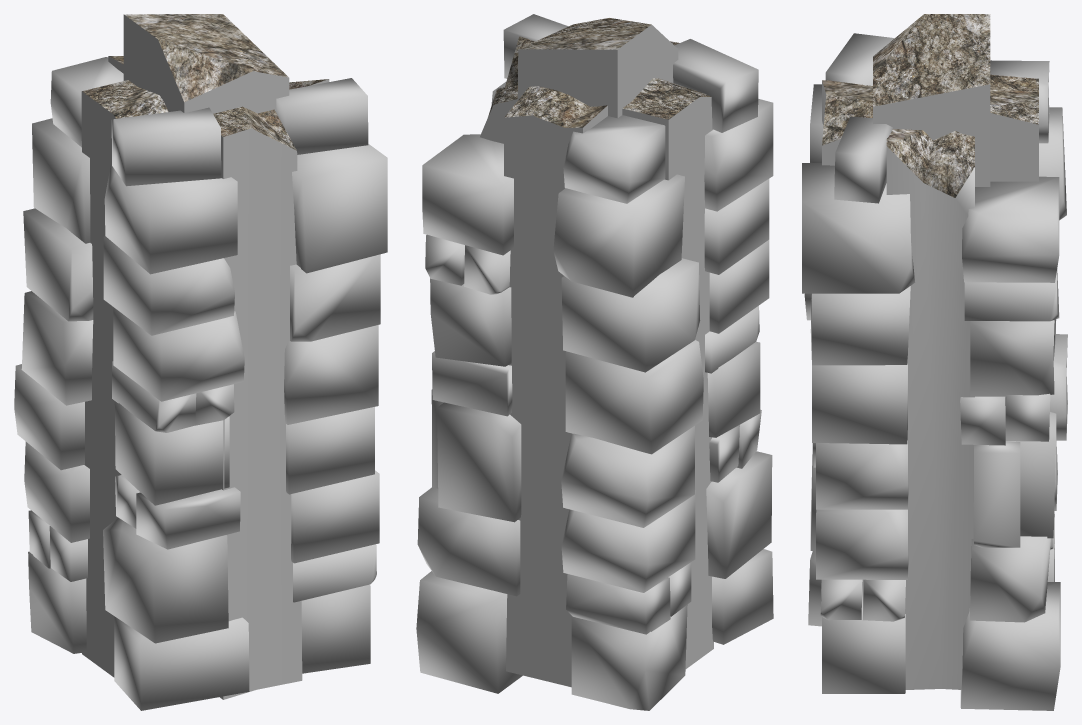
File: Ruins_20B.fbx
3 views of the same model, side by side, from view 1: azimuth 30°, elevation 25°; view 2: azimuth 150°, elevation 25°; view 3: azimuth 270°, elevation 25° (orthographic). The views are drawn at different scales.
Visible parts, largest first — view 1: polySurface3588; view 2: polySurface3588; view 3: polySurface3588.
Boxes of the visible parts, <box> form: polySurface3588: <box>14,14,387,710</box>; polySurface3588: <box>416,14,773,710</box>; polySurface3588: <box>802,14,1067,710</box>.
Bounding box in the file's own units: 1.28 × 3.18 × 1.23.
